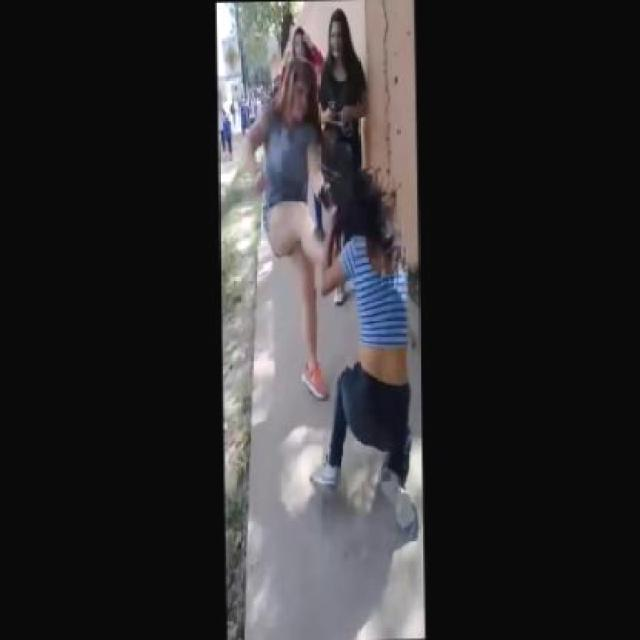fight: (248, 61, 416, 414)
